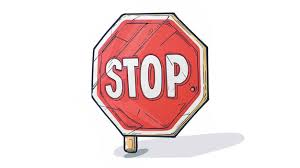stop sign: (91, 11, 209, 139)
